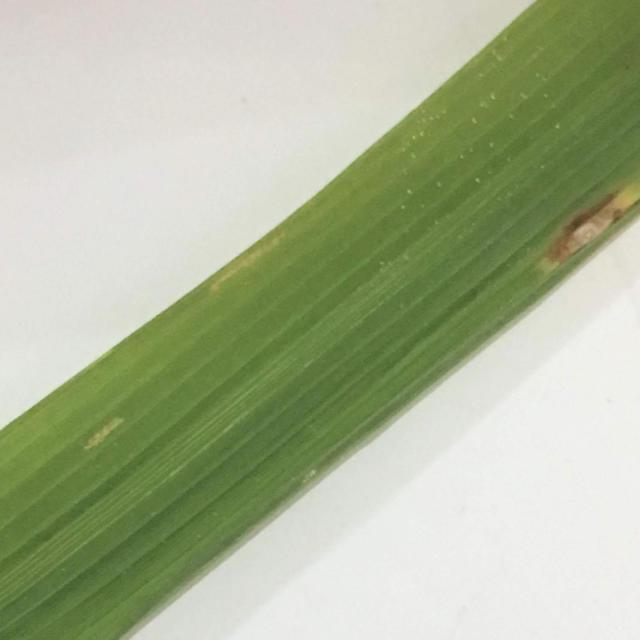Leaf_Blast: (539, 192, 636, 278)
